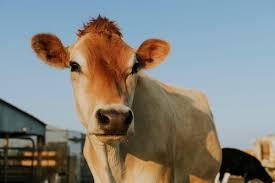cow: (30, 18, 222, 183), (220, 148, 275, 183)
